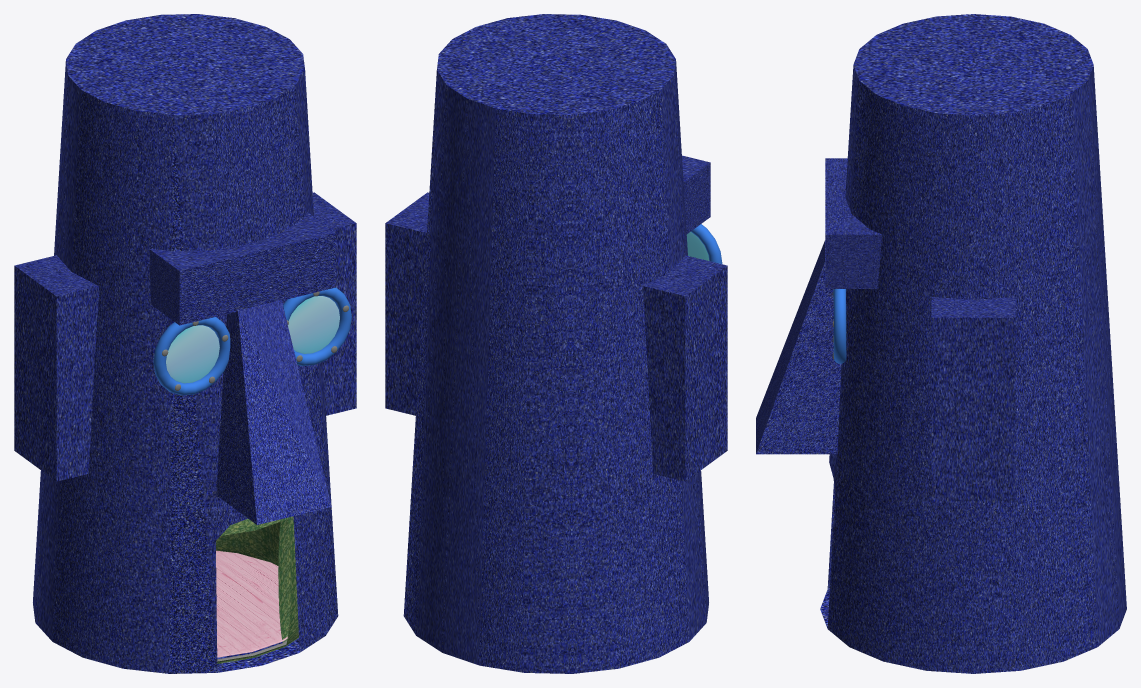
Rendered from casaCuarto.obj.
The picture shows the model from 3 angles, left to right: view 1: azimuth 30°, elevation 25°; view 2: azimuth 150°, elevation 25°; view 3: azimuth 270°, elevation 25°; orthographic projection.
Visible parts, largest first — view 1: Fachada:group4_pasted__group2_pasted__pasted__pSphere2, pTorus3; view 2: Fachada:group4_pasted__group2_pasted__pasted__pSphere2; view 3: Fachada:group4_pasted__group2_pasted__pasted__pSphere2.
Part boxes in pixels (box(x1,y1,x2,y2)): Fachada:group4_pasted__group2_pasted__pasted__pSphere2: box(14, 14, 356, 673); pTorus3: box(216, 516, 298, 663); Fachada:group4_pasted__group2_pasted__pasted__pSphere2: box(385, 14, 727, 673); Fachada:group4_pasted__group2_pasted__pasted__pSphere2: box(756, 14, 1126, 673).
Bounding box in the file's own units: 41.52 × 72.06 × 44.51.
